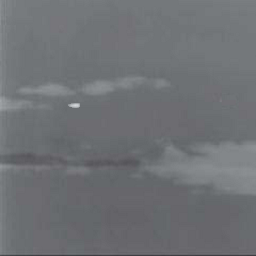Target: (66, 102, 81, 109)
